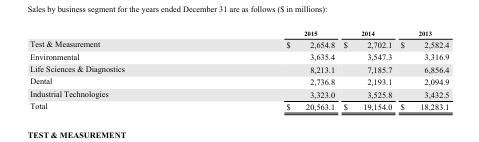table: (29, 28, 448, 110)
table column: (29, 28, 204, 110), (204, 28, 338, 110), (338, 28, 395, 110), (395, 28, 448, 110)
table column header: (29, 28, 448, 37)
table row: (29, 49, 448, 62), (29, 74, 448, 87), (29, 37, 448, 49), (29, 62, 448, 74), (29, 87, 448, 99), (29, 99, 448, 110), (29, 28, 448, 37)
